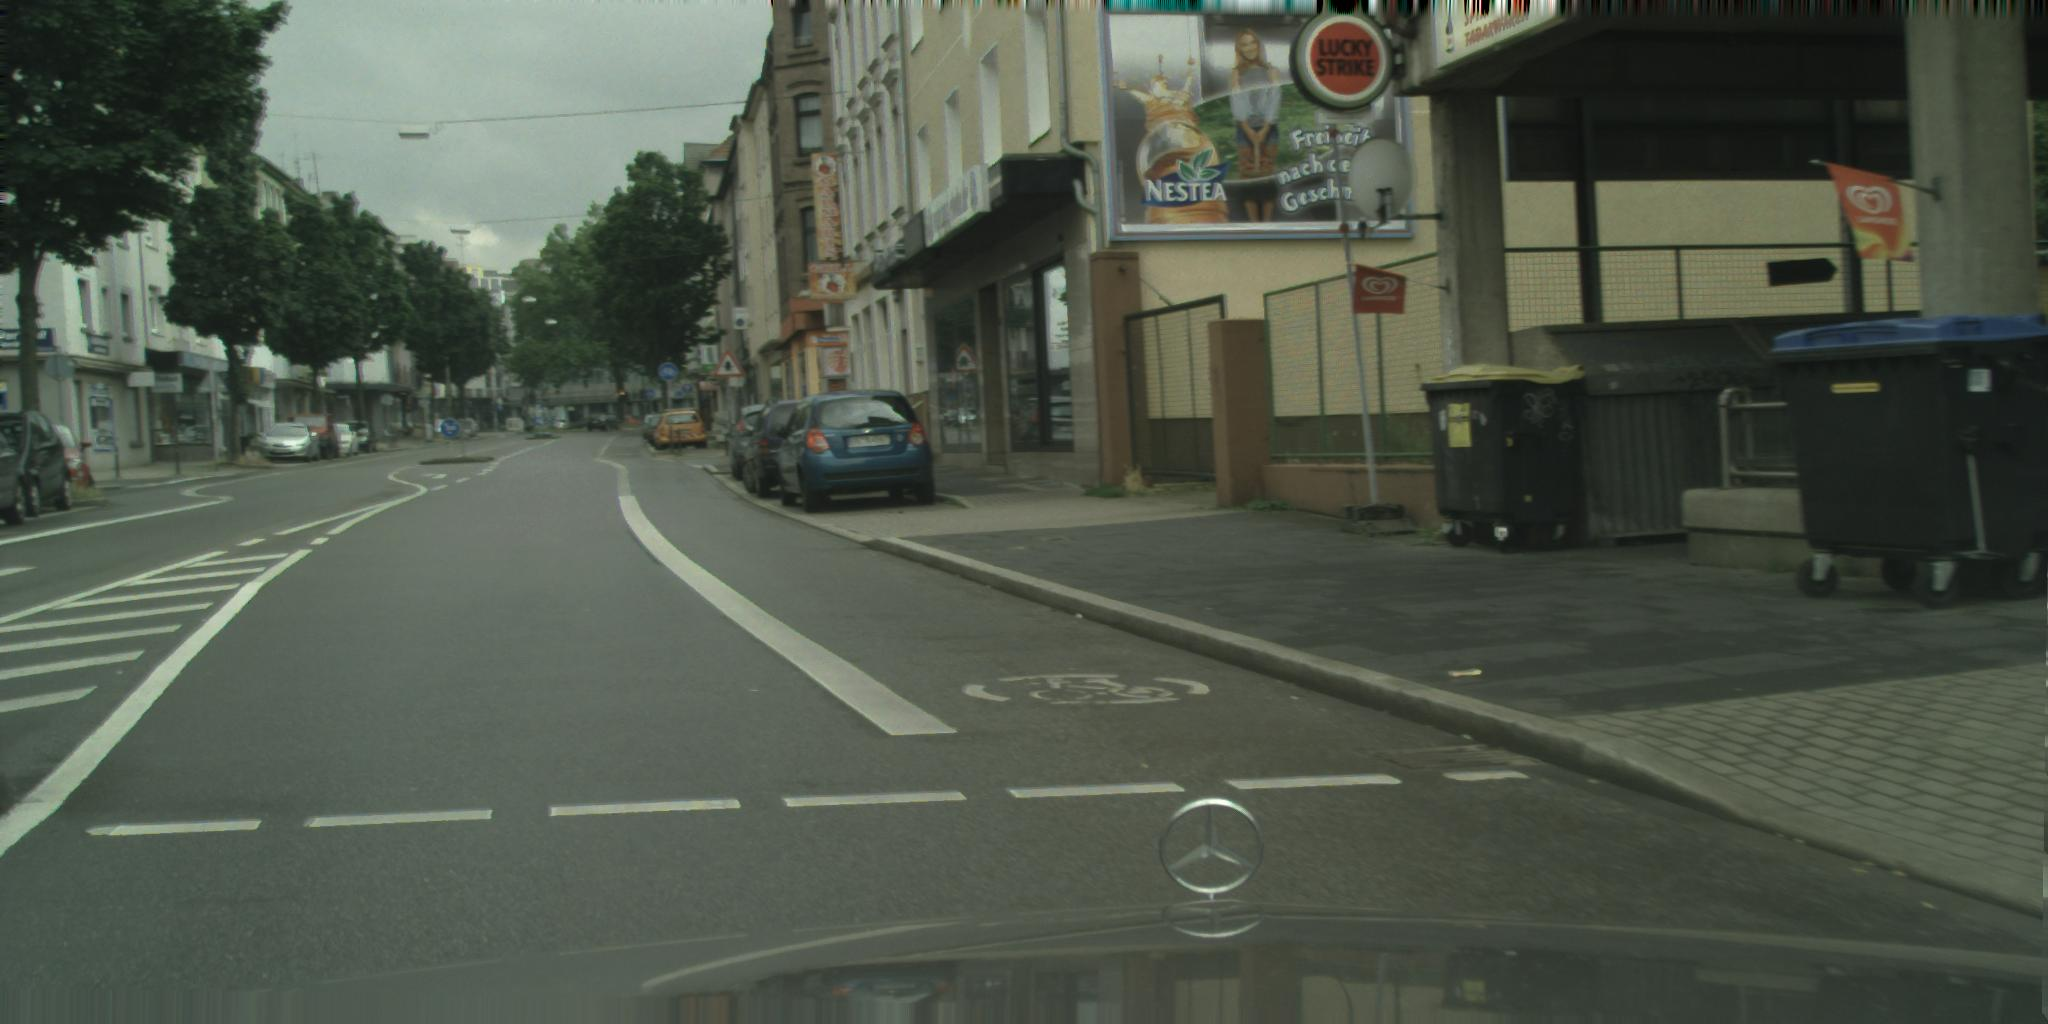car: (775, 388, 936, 516), (737, 397, 824, 502), (1, 409, 74, 520), (37, 422, 97, 492), (724, 404, 773, 483), (1, 428, 29, 529), (285, 413, 342, 460), (260, 422, 323, 464), (652, 408, 709, 451), (325, 422, 360, 458), (342, 421, 379, 455), (643, 415, 667, 449), (586, 411, 623, 434), (451, 417, 481, 441), (643, 415, 657, 439), (626, 415, 647, 424)
